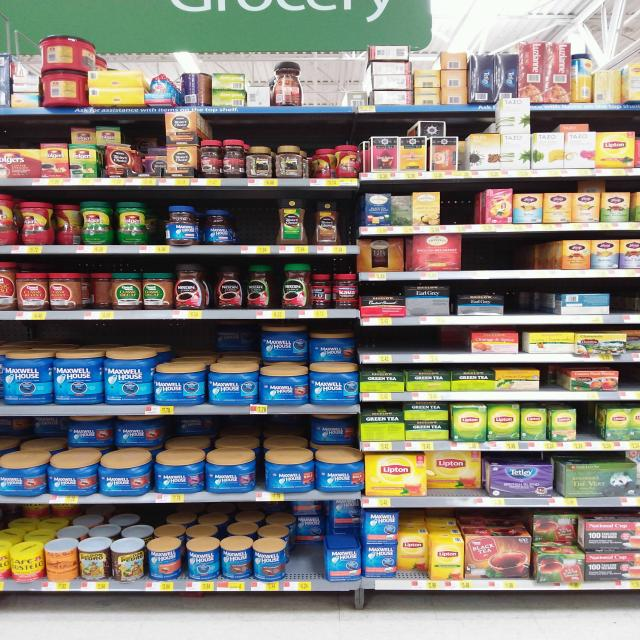void: (309, 54, 343, 117), (240, 196, 270, 258), (443, 185, 479, 235), (507, 235, 544, 282), (467, 236, 502, 278), (613, 278, 640, 325), (365, 330, 397, 365), (404, 330, 430, 368), (435, 327, 459, 365)
